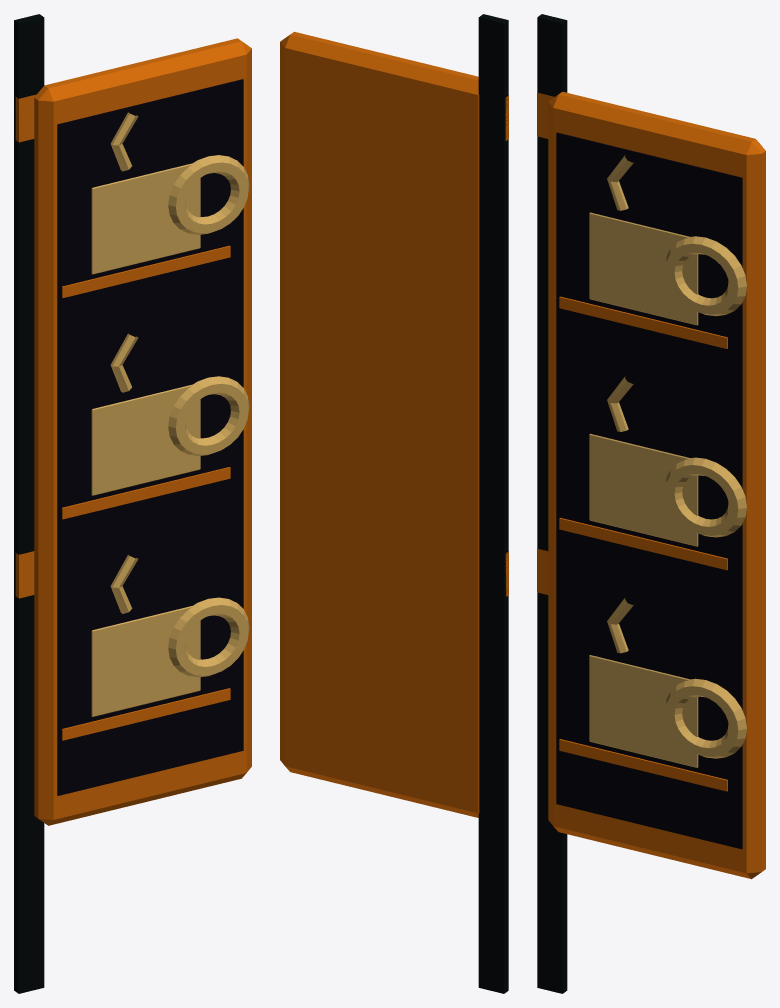
The model's file is mall_r5_density_vertical_sign2.fbx.
3 renders of one model, left to right at view 1: azimuth 30°, elevation 25°; view 2: azimuth 150°, elevation 25°; view 3: azimuth 330°, elevation 25°, orthographic.
Parts seen in each view (by area): view 1: Part_5, Part_2, Part_-1, Part_4, Part_3, Part_1, Part_0; view 2: Part_-1, Part_5, Part_4, Part_1, Part_0; view 3: Part_5, Part_2, Part_-1, Part_3, Part_4, Part_1, Part_0.
Part boxes in pixels (x1,y1,x2,y2): Part_5: [53, 38, 251, 771]; Part_2: [53, 103, 246, 819]; Part_-1: [14, 14, 200, 993]; Part_4: [19, 39, 239, 567]; Part_3: [64, 58, 251, 772]; Part_1: [56, 607, 249, 823]; Part_0: [38, 631, 239, 825]; Part_-1: [280, 14, 508, 993]; Part_5: [280, 31, 478, 721]; Part_4: [287, 36, 478, 94]; Part_1: [285, 766, 474, 812]; Part_0: [294, 773, 478, 817]; Part_5: [553, 95, 765, 872]; Part_2: [553, 109, 746, 873]; Part_-1: [537, 14, 696, 993]; Part_3: [562, 165, 765, 873]; Part_4: [537, 91, 750, 401]; Part_1: [562, 656, 761, 879]; Part_0: [554, 656, 742, 872].
Bounding box in the file's own units: 3.46 × 14 × 0.507.
